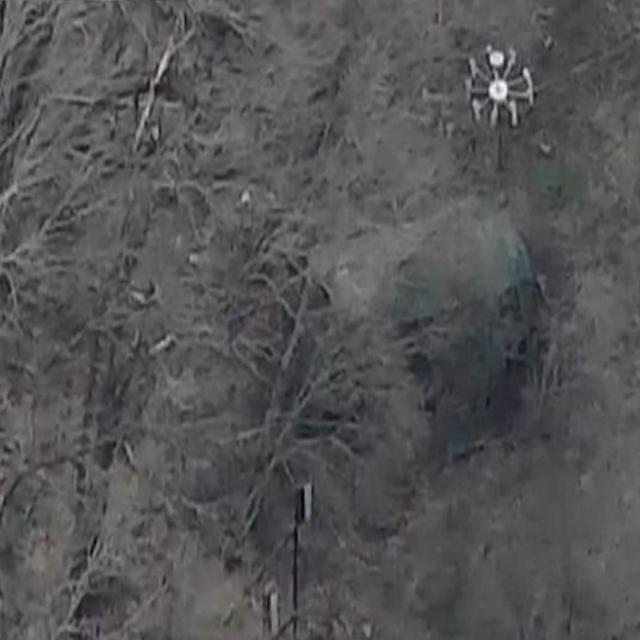vehicle: (262, 42, 538, 472)
